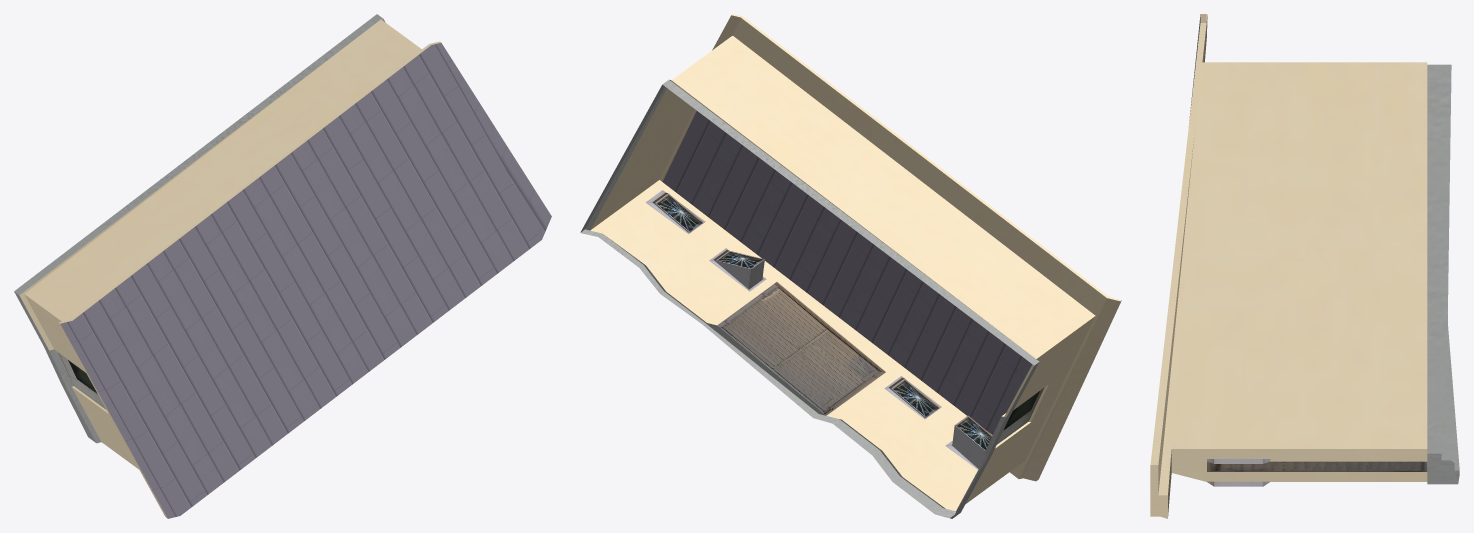
File: Toompuiestee10_3-origo.obj
3 views of the same model, side by side, from view 1: azimuth 30°, elevation 25°; view 2: azimuth 150°, elevation 25°; view 3: azimuth 270°, elevation 25° (orthographic). The views are drawn at different scales.
Parts seen in each view (by area): view 1: Tp12_b_polySurface14; view 2: Tp12_b_polySurface14; view 3: Tp12_b_polySurface14.
Boxes of the visible parts, x1=… form: Tp12_b_polySurface14: x1=14, y1=14, x2=551, y2=518; Tp12_b_polySurface14: x1=580, y1=14, x2=1121, y2=518; Tp12_b_polySurface14: x1=1150, y1=14, x2=1459, y2=518.
Bounding box in the file's own units: 12 × 9.5 × 3.57.
